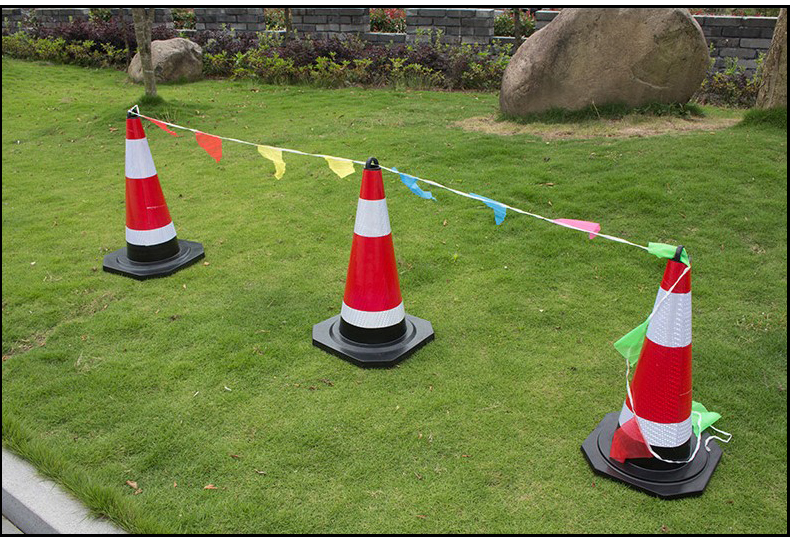traffic_cone: (561, 217, 730, 510), (272, 141, 457, 382), (75, 91, 209, 292)
